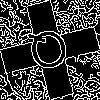Q: (25, 25, 74, 81)
